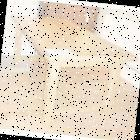Mesa: (1, 12, 139, 139)
